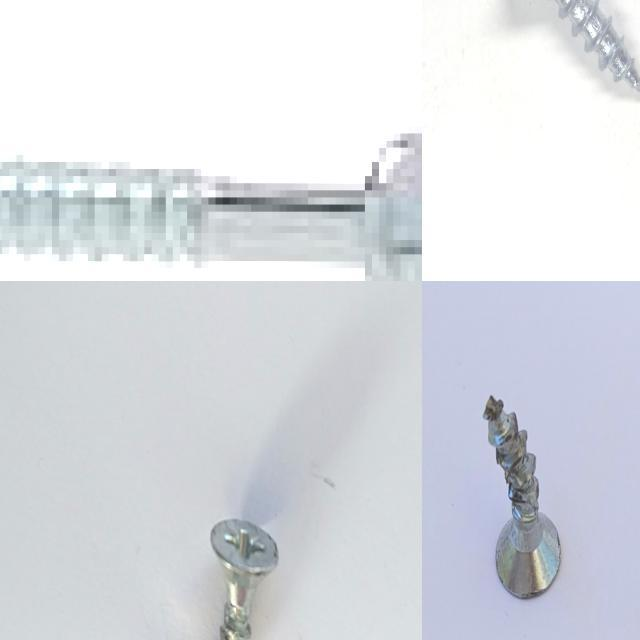Screw: (0, 133, 422, 281), (483, 394, 560, 597), (210, 518, 278, 640), (555, 0, 640, 92)
